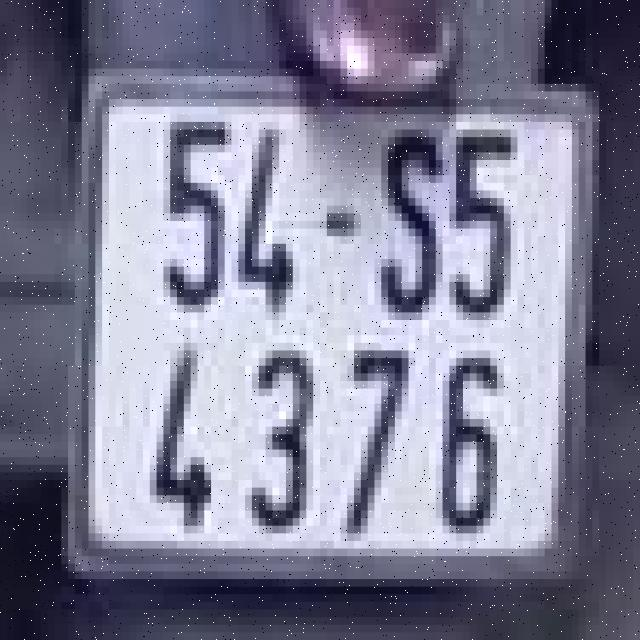3: (231, 343, 320, 548)
4: (146, 332, 235, 537), (235, 114, 296, 320)
5: (150, 103, 231, 316), (446, 122, 521, 343)
6: (432, 343, 521, 548)
7: (337, 339, 419, 545)
S: (354, 122, 449, 328)
